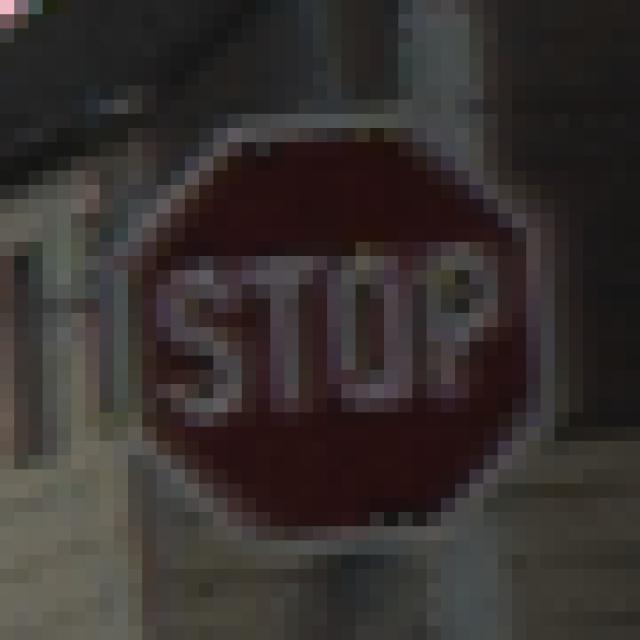STOP: (86, 72, 556, 556)
